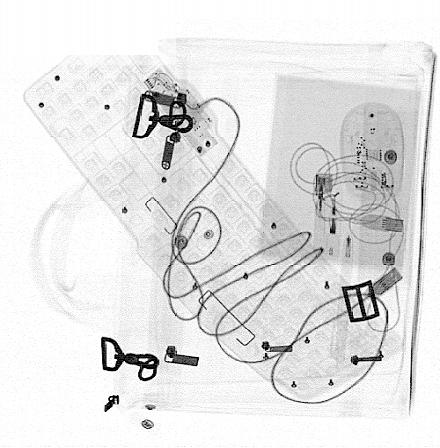Lighter: (313, 173, 344, 259)
